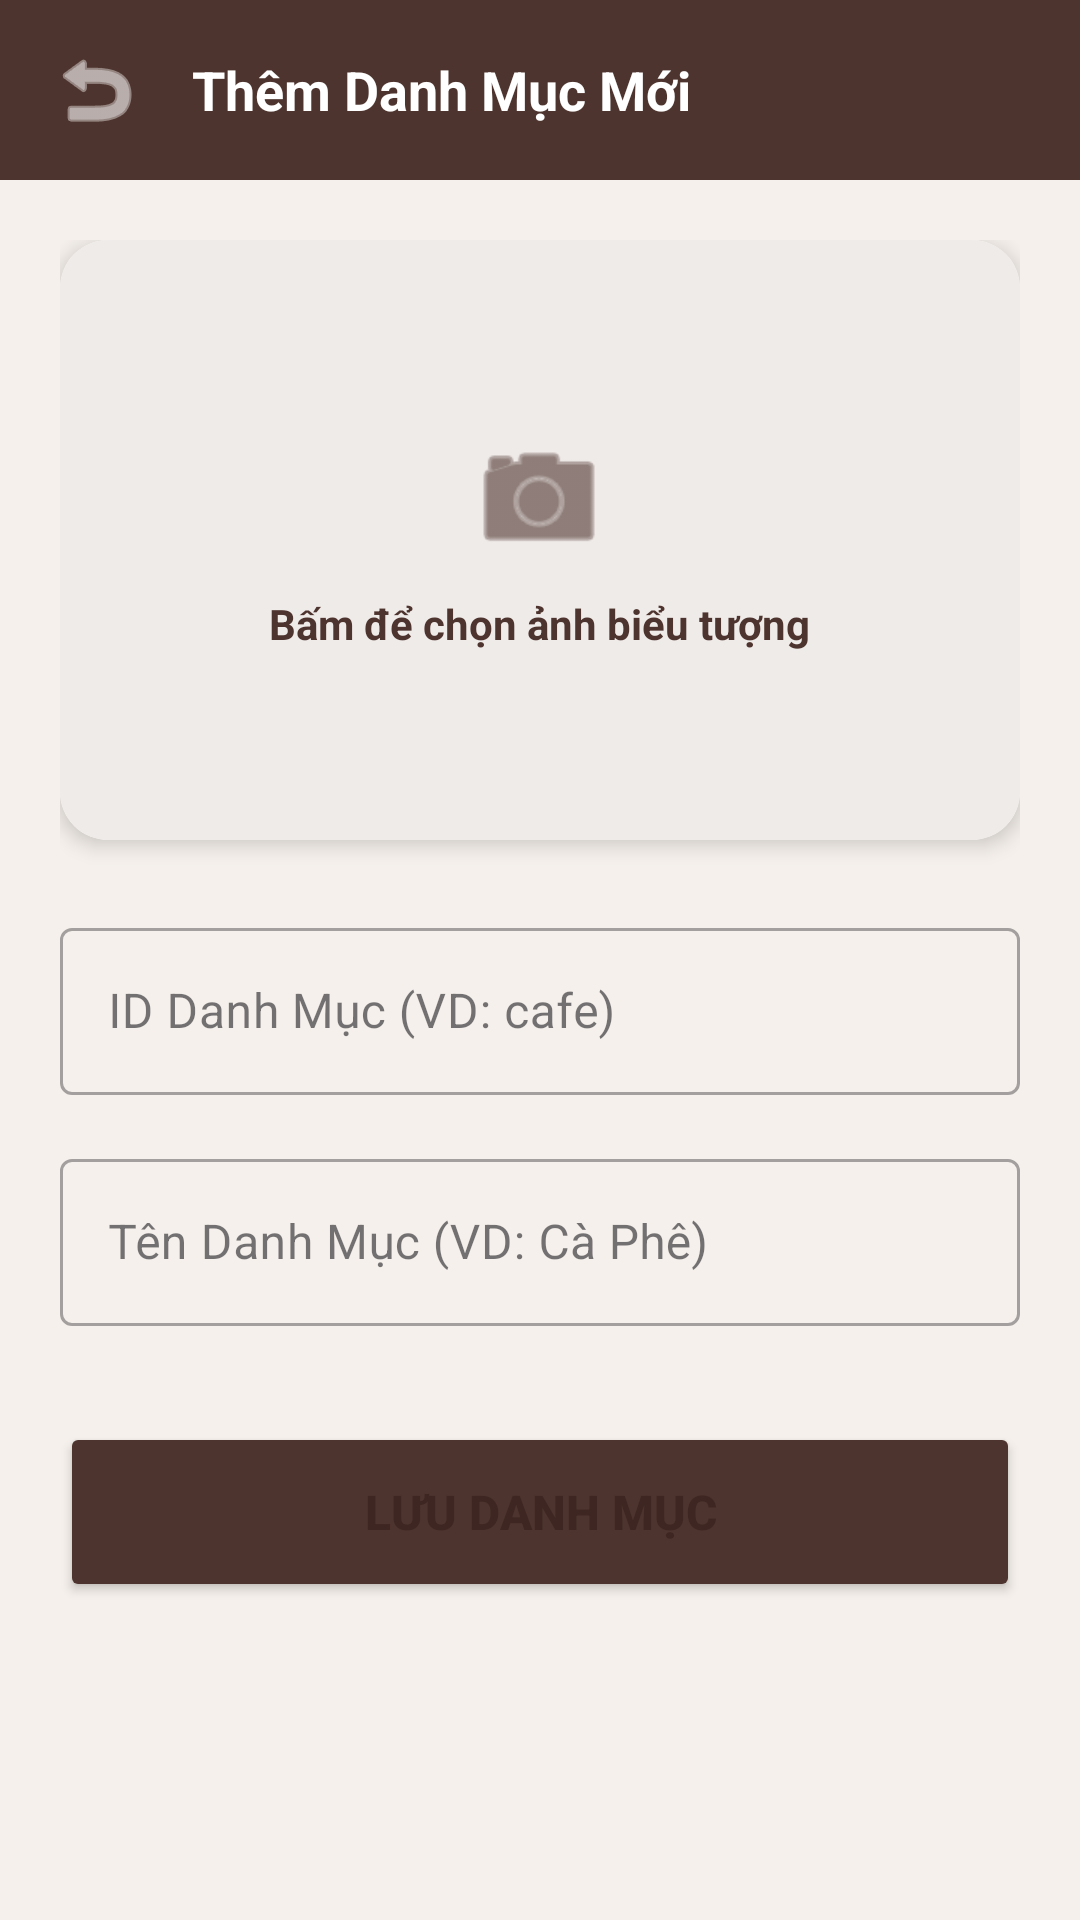

Where to tap for icons on this 1080 × 1920 app screen, as [x,y]:
camera: [539,496]
revert: [97,90]
